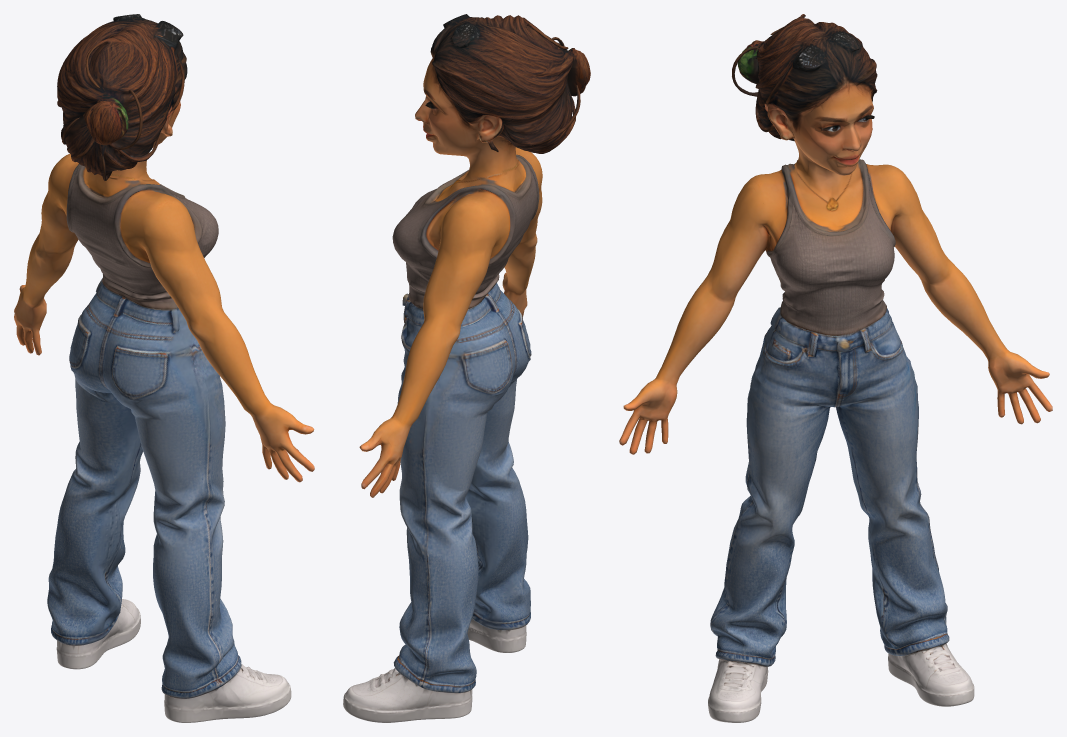
The model's file is lolobiscotto.glb.
3 views of the same model, side by side, from view 1: azimuth 30°, elevation 25°; view 2: azimuth 150°, elevation 25°; view 3: azimuth 270°, elevation 25° (orthographic). The views are drawn at different scales.
Parts seen in each view (by area): view 1: tripo_node_e0a9315f-fca0-48b4-a941-34d749b475fd; view 2: tripo_node_e0a9315f-fca0-48b4-a941-34d749b475fd; view 3: tripo_node_e0a9315f-fca0-48b4-a941-34d749b475fd.
Part boxes in pixels (bbox=[...]): tripo_node_e0a9315f-fca0-48b4-a941-34d749b475fd: bbox=[14, 14, 314, 722]; tripo_node_e0a9315f-fca0-48b4-a941-34d749b475fd: bbox=[343, 14, 590, 722]; tripo_node_e0a9315f-fca0-48b4-a941-34d749b475fd: bbox=[619, 14, 1052, 722].
Bounding box in the file's own units: 0.3005 × 0.9996 × 0.6072.
1 material, 1 textured.
